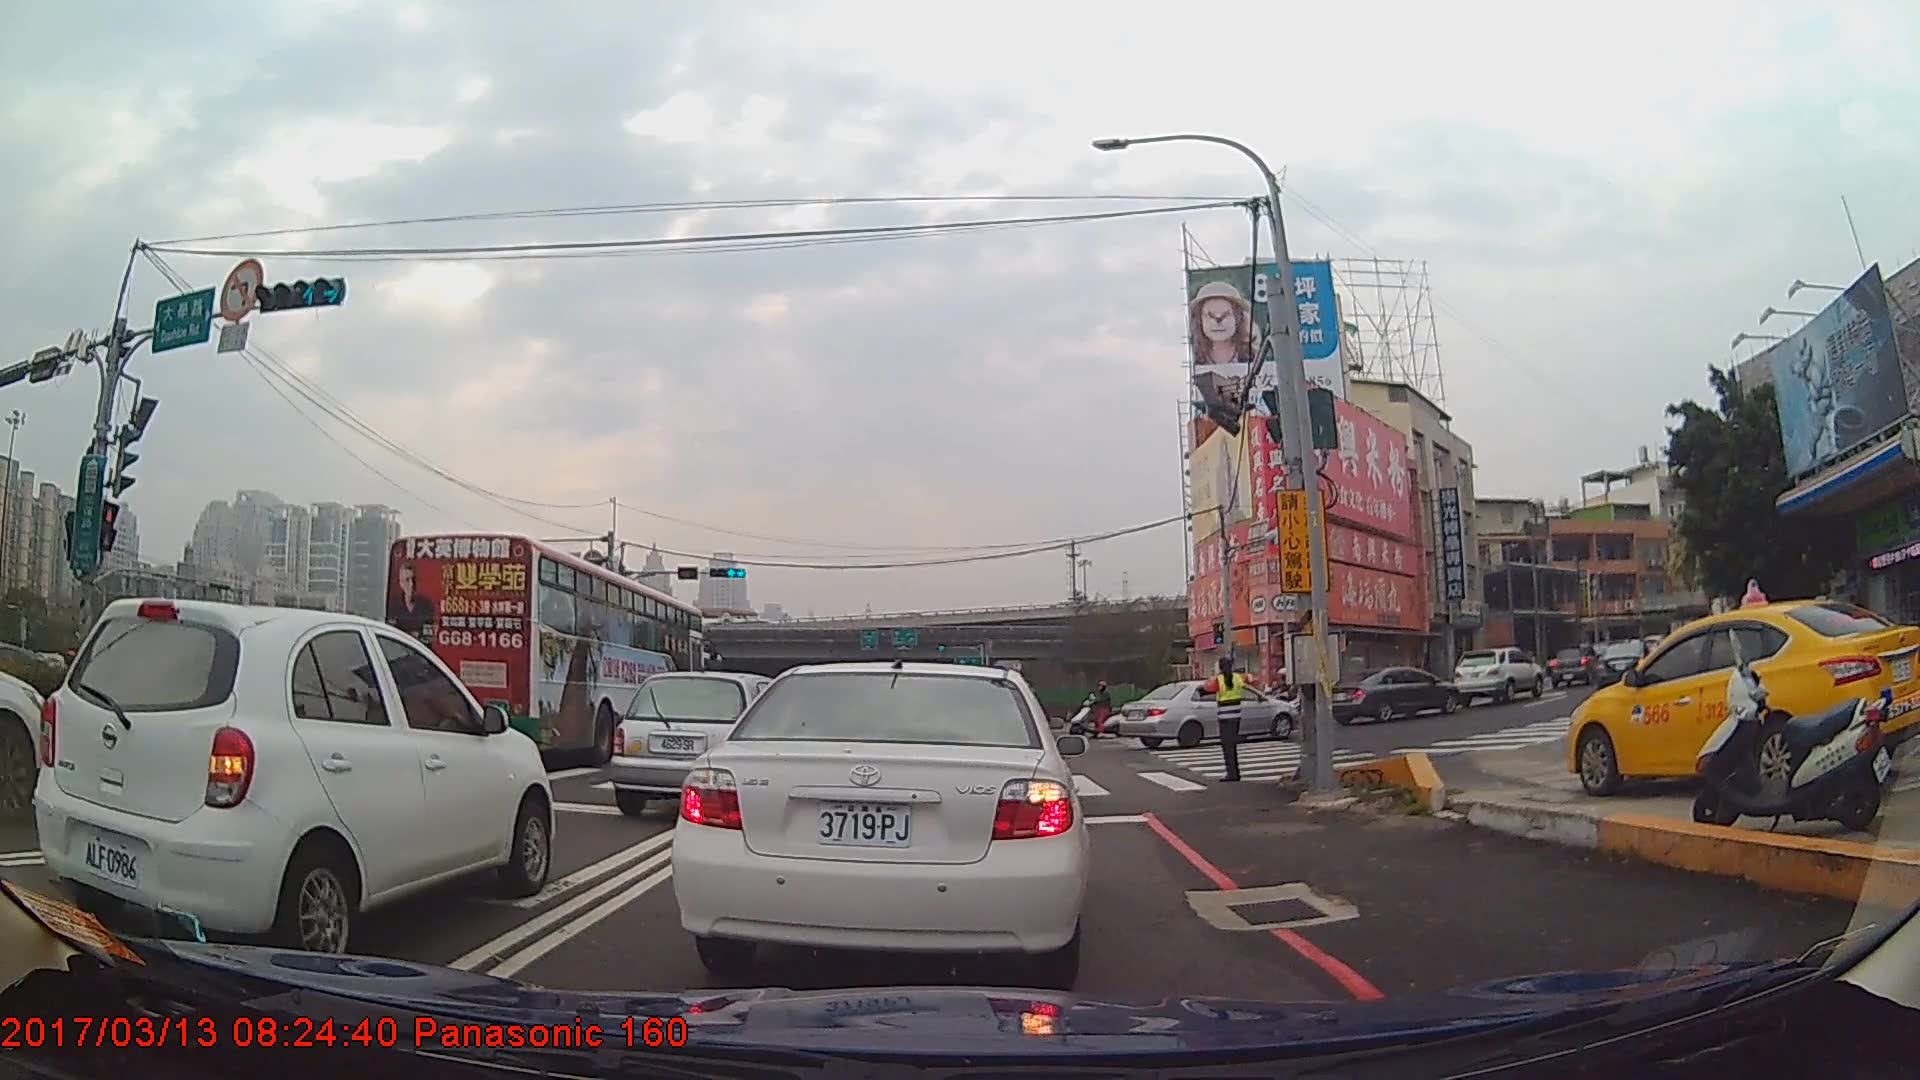pedestrian: (1206, 656, 1249, 785)
rider: (1072, 682, 1133, 738), (1253, 667, 1302, 725)
vehicle: (28, 591, 554, 969), (668, 658, 1085, 986), (373, 531, 710, 767), (1564, 599, 1920, 797), (608, 670, 816, 819), (1113, 677, 1295, 748), (1323, 664, 1457, 724), (1453, 645, 1543, 707), (1594, 638, 1658, 696), (1550, 642, 1602, 688)
